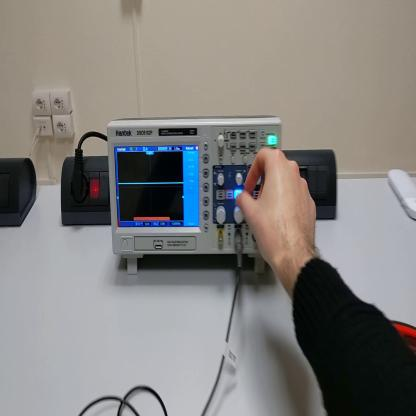hand: (236, 146, 321, 271)
oscilloscope: (108, 115, 286, 278)
pliers: (390, 315, 415, 356)
socket: (58, 155, 112, 228), (1, 156, 39, 229)
